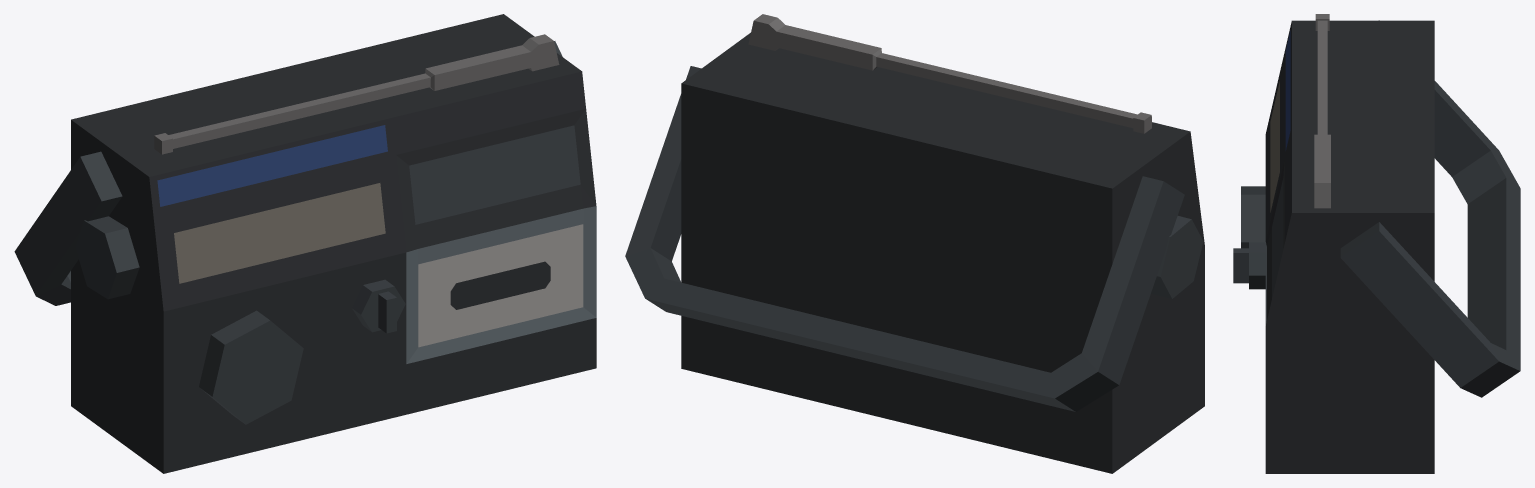
The model's file is SM_Prop_Radio_02.fbx.
3 views of the same model, side by side, from view 1: azimuth 30°, elevation 25°; view 2: azimuth 150°, elevation 25°; view 3: azimuth 270°, elevation 25° (orthographic). The views are drawn at different scales.
Visible parts, largest first — view 1: SM_Prop_Radio_02; view 2: SM_Prop_Radio_02; view 3: SM_Prop_Radio_02.
Part boxes in pixels (x1=…): SM_Prop_Radio_02: x1=14, y1=14, x2=596, y2=473; SM_Prop_Radio_02: x1=625, y1=14, x2=1204, y2=473; SM_Prop_Radio_02: x1=1233, y1=14, x2=1520, y2=473.
Size of the model in its own units: 38.62 by 24.14 by 22.12.
